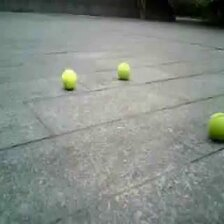tennis: (207, 111, 224, 141), (62, 70, 77, 88), (116, 63, 131, 79)
